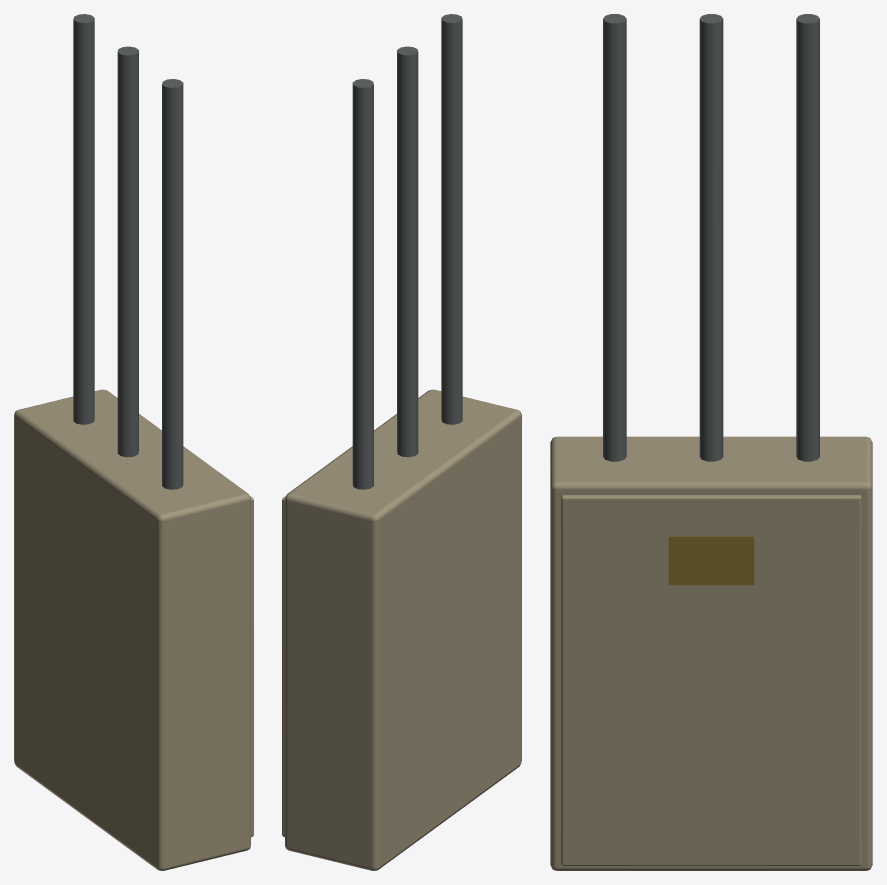
File: junction_box.glb
The picture shows the model from 3 angles, left to right: view 1: azimuth 30°, elevation 25°; view 2: azimuth 150°, elevation 25°; view 3: azimuth 270°, elevation 25°; orthographic projection. The views are drawn at different scales.
Visible parts, largest first — view 1: kasten, kabel0.0, kabel0.18, kabel-0.18, deckel; view 2: kasten, kabel-0.18, kabel0.0, kabel0.18, deckel; view 3: deckel, kasten, kabel0.0, kabel-0.18, kabel0.18, schild.
Part boxes in pixels (x1,y1,x2,y2): kasten: (14, 389, 250, 870); kabel0.0: (117, 46, 138, 457); kabel0.18: (73, 14, 94, 424); kabel-0.18: (162, 79, 183, 489); deckel: (250, 496, 253, 837); kasten: (285, 389, 521, 870); kabel-0.18: (441, 14, 462, 424); kabel0.0: (397, 46, 418, 457); kabel0.18: (352, 79, 373, 489); deckel: (282, 496, 285, 837); deckel: (561, 495, 861, 865); kasten: (550, 436, 872, 870); kabel0.0: (699, 14, 723, 461); kabel-0.18: (603, 14, 626, 461); kabel0.18: (796, 14, 819, 461); schild: (668, 536, 754, 585).
Bounding box in the file's own units: 0.237 × 1.7 × 0.6.
